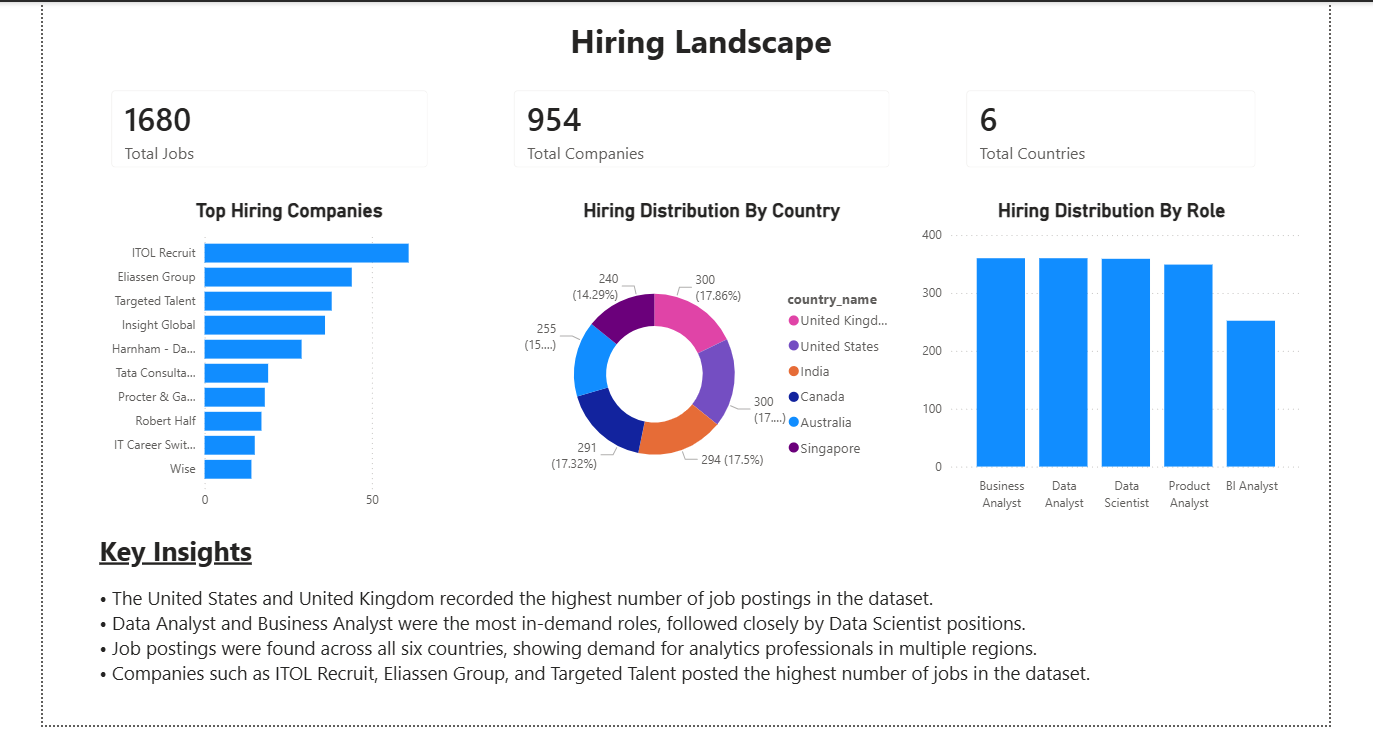

The dashboard page shown, as its layout file describes it:
{"tool":"powerbi","page":{"name":"Hiring Landscape","canvas":[1280,720],"ordinal":4},"visuals":[{"type":"cardVisual","fields":{"Data":["job_market_dashboard_dataset.Total Jobs"]},"box":[50.8,71.4,349.9,111.1],"z":0},{"type":"cardVisual","fields":{"Data":["job_market_dashboard_dataset.Total Companies"]},"box":[451.5,71.4,408.9,111.1],"z":1},{"type":"cardVisual","fields":{"Data":["job_market_dashboard_dataset.Total Countries"]},"box":[901.5,71.4,322.5,111.1],"z":2},{"type":"clusteredBarChart","title":"Top Hiring Companies","fields":{"Category":["job_market_dashboard_dataset.company"],"Y":["CountNonNull(job_market_dashboard_dataset.job_id)"]},"box":[50.8,196.2,388.3,317],"z":3},{"type":"donutChart","title":"Hiring Distribution By Country","fields":{"Category":["job_market_dashboard_dataset.country_name"],"Y":["CountNonNull(job_market_dashboard_dataset.job_id)"]},"box":[472,196.2,388.3,326.6],"z":4},{"type":"clusteredColumnChart","title":"Hiring Distribution By Role","fields":{"Y":["CountNonNull(job_market_dashboard_dataset.job_id)"],"Category":["job_market_dashboard_dataset.role_searched"]},"box":[870,196.2,388.3,317],"z":5},{"type":"textbox","box":[50.8,522.8,1173.2,197.6],"z":6},{"type":"textbox","box":[50.8,11,1207.6,60.4],"z":7}]}

Visuals, with their boxes on the page's 1280x720 design canvas (x1, y1, x2, y2). These are canvas units, not pixel positions in the 1373x732 screenshot, which may show the page scaled, cropped or inside an application window:
cardVisual - job_market_dashboard_dataset.Total Jobs: BBox(51, 71, 401, 182)
cardVisual - job_market_dashboard_dataset.Total Companies: BBox(452, 71, 860, 182)
cardVisual - job_market_dashboard_dataset.Total Countries: BBox(902, 71, 1224, 182)
"Top Hiring Companies" clusteredBarChart: BBox(51, 196, 439, 513)
"Hiring Distribution By Country" donutChart: BBox(472, 196, 860, 523)
"Hiring Distribution By Role" clusteredColumnChart: BBox(870, 196, 1258, 513)
textbox: BBox(51, 523, 1224, 720)
textbox: BBox(51, 11, 1258, 71)
